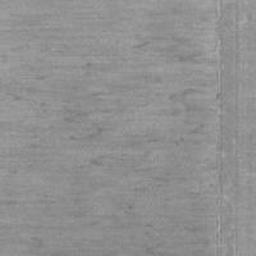Welding line: (214, 0, 223, 256)
